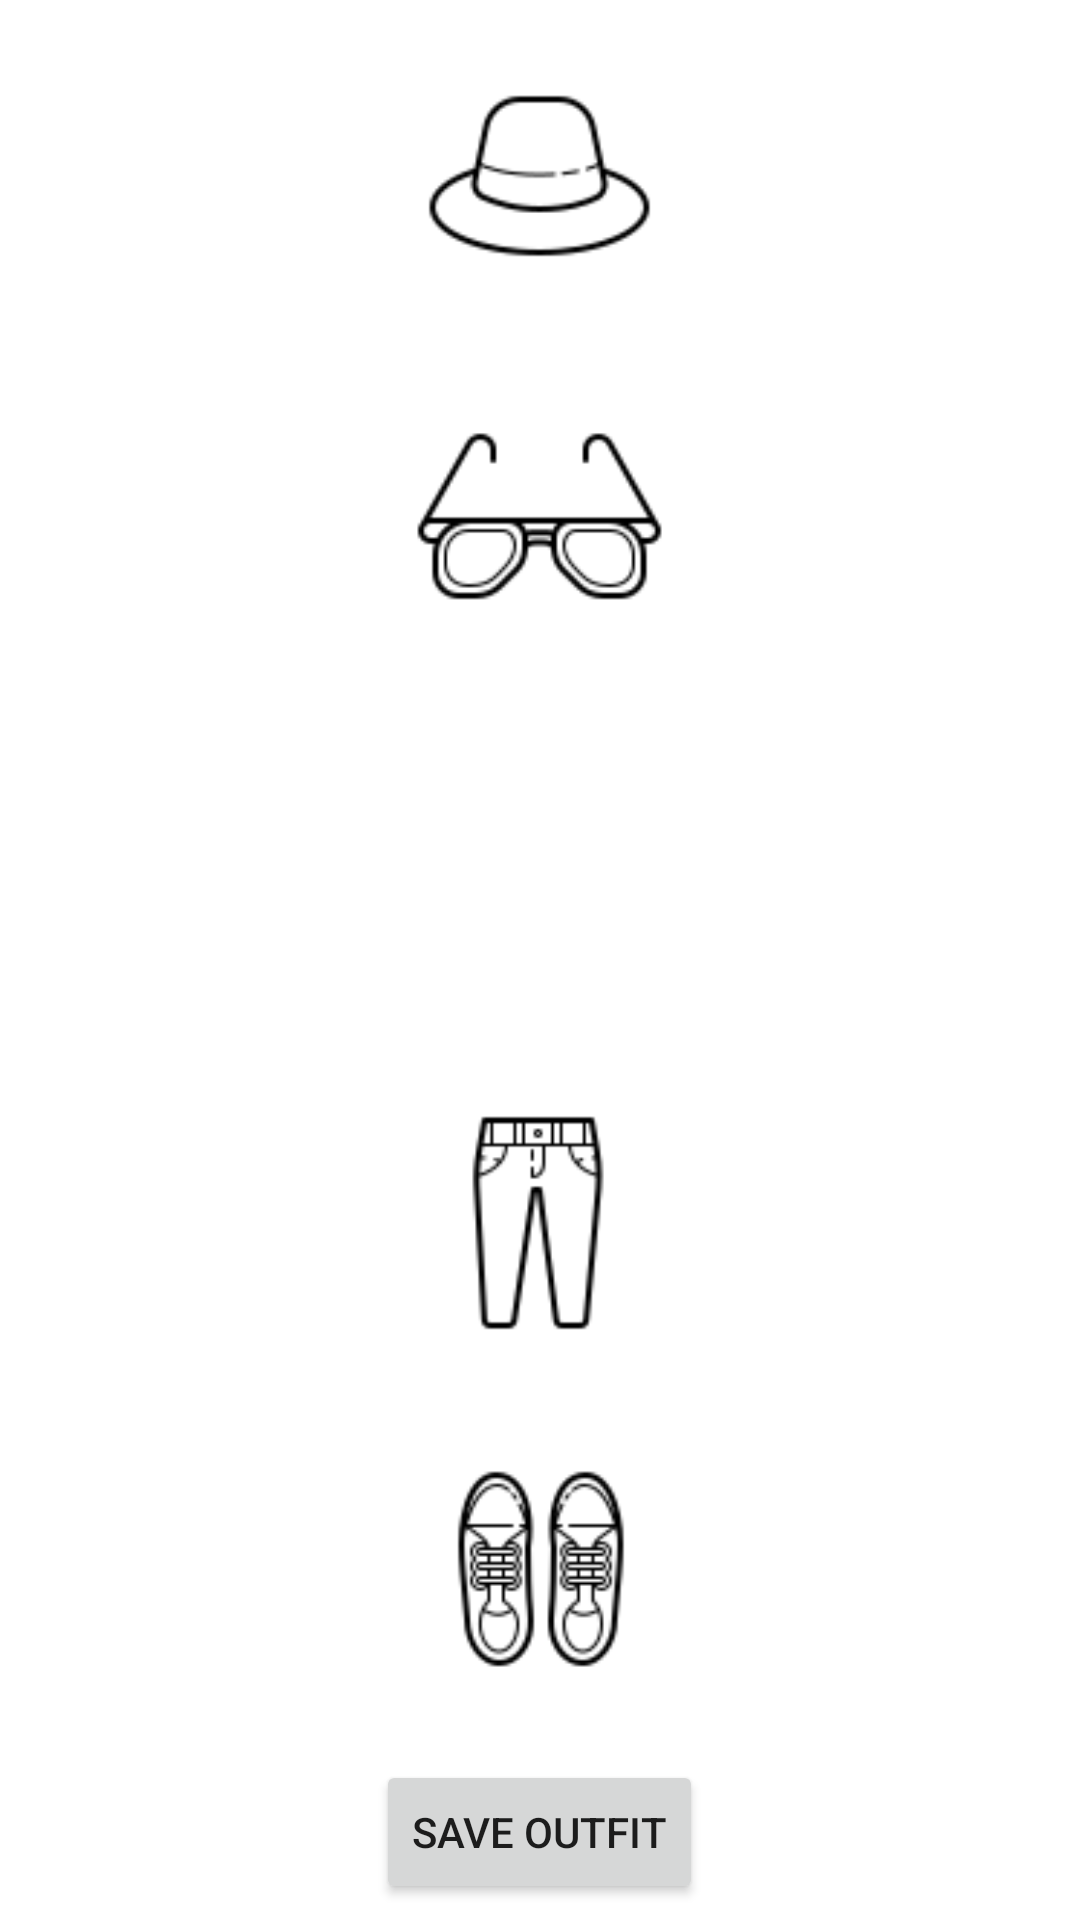

Locate icon controls on the screen. Image size 1080px x 1920px, boxes as (x1, y1, x2, y2).
face: (417, 433, 662, 600)
feet: (457, 1471, 624, 1667)
head: (429, 95, 650, 257)
lower body: (472, 1116, 604, 1330)
